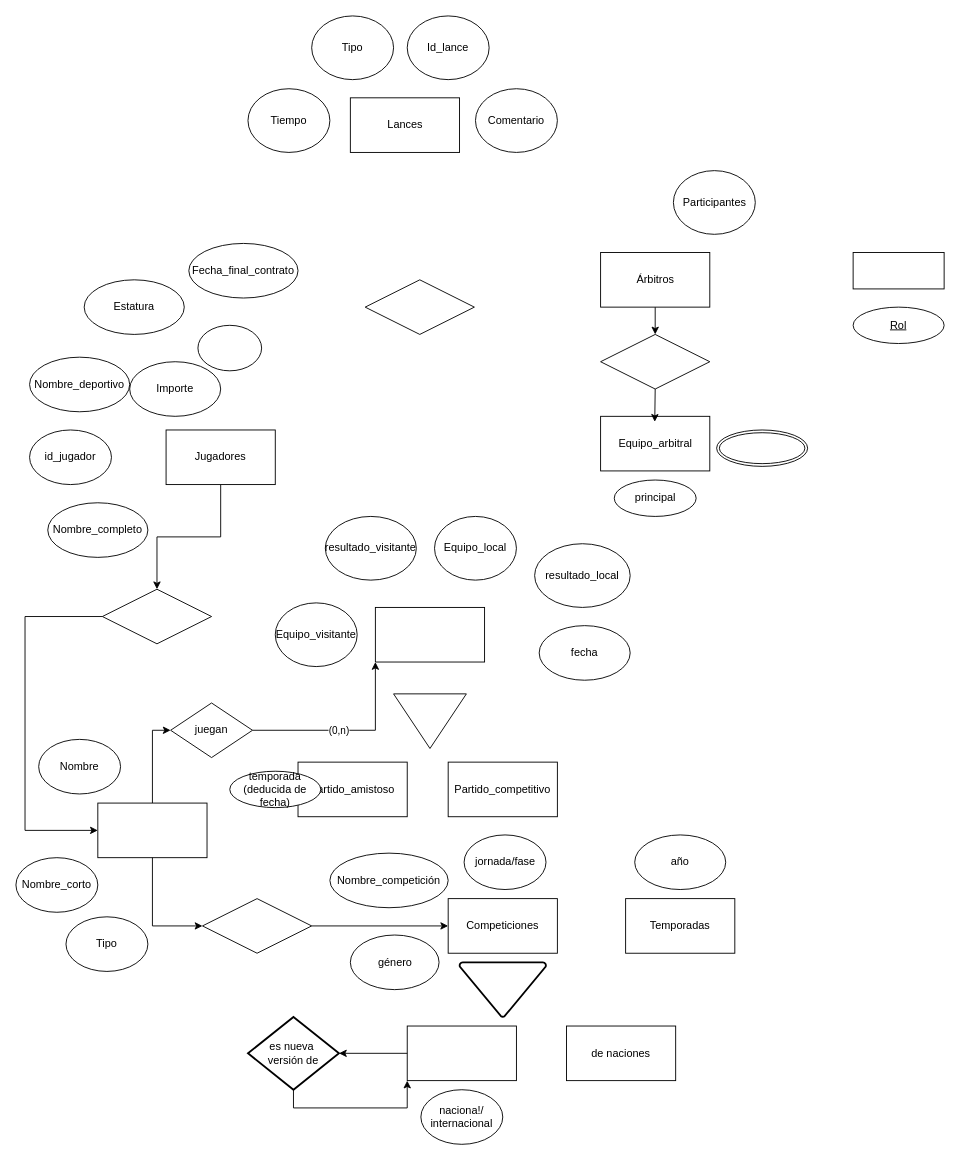
Image size: 960x1160. Some labels were removed from this diagram. Each missing label, with the box of its shape:
asistentes: (716, 429, 808, 466)
de clubes: (406, 1025, 516, 1081)
Equipos: (97, 802, 207, 858)
forman: (600, 334, 710, 389)
forman/fichan: (101, 588, 212, 644)
inscriben: (202, 898, 312, 953)
Partidos: (374, 607, 485, 662)
Peso: (197, 324, 262, 371)
realizan: (364, 279, 474, 334)
roles_Arb: (852, 252, 944, 289)
